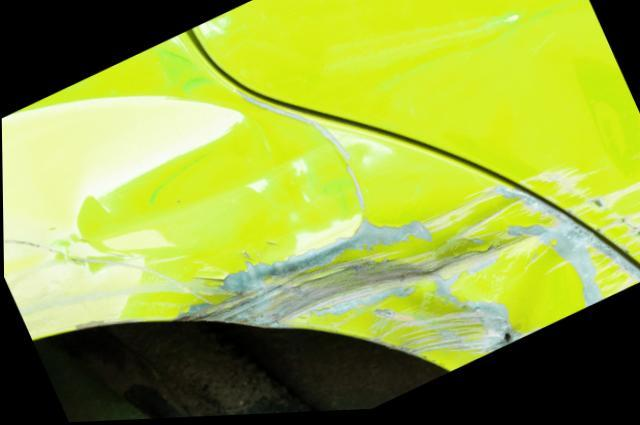dent: (189, 193, 640, 374)
scratch: (519, 134, 640, 272), (3, 233, 180, 327)
